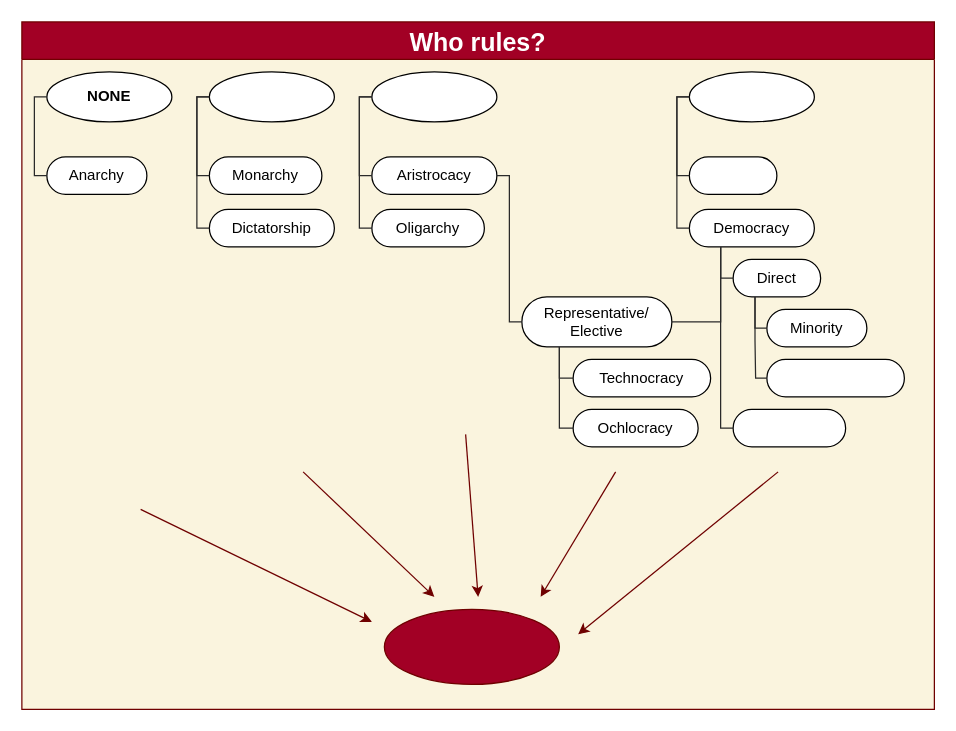
Some shapes in this 956 by 731 pixel diagram are drawn without their labels. Each missing label, with the box of its shape:
ALL: (688, 71, 814, 122)
EVOLVE!: (383, 608, 559, 684)
FEW: (371, 71, 497, 122)
Inclusive: (732, 408, 846, 447)
ONE: (208, 71, 334, 122)
Plebiscitarian: (766, 358, 904, 397)
Polity: (688, 156, 777, 194)
